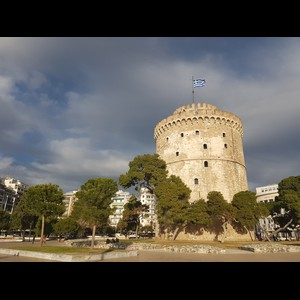White Tower: (147, 74, 257, 244)
